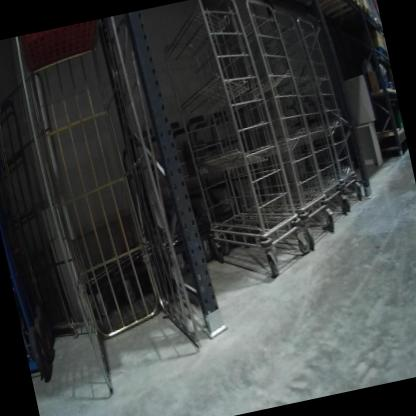pallet: (314, 0, 374, 32), (290, 0, 362, 26), (277, 0, 343, 13)
